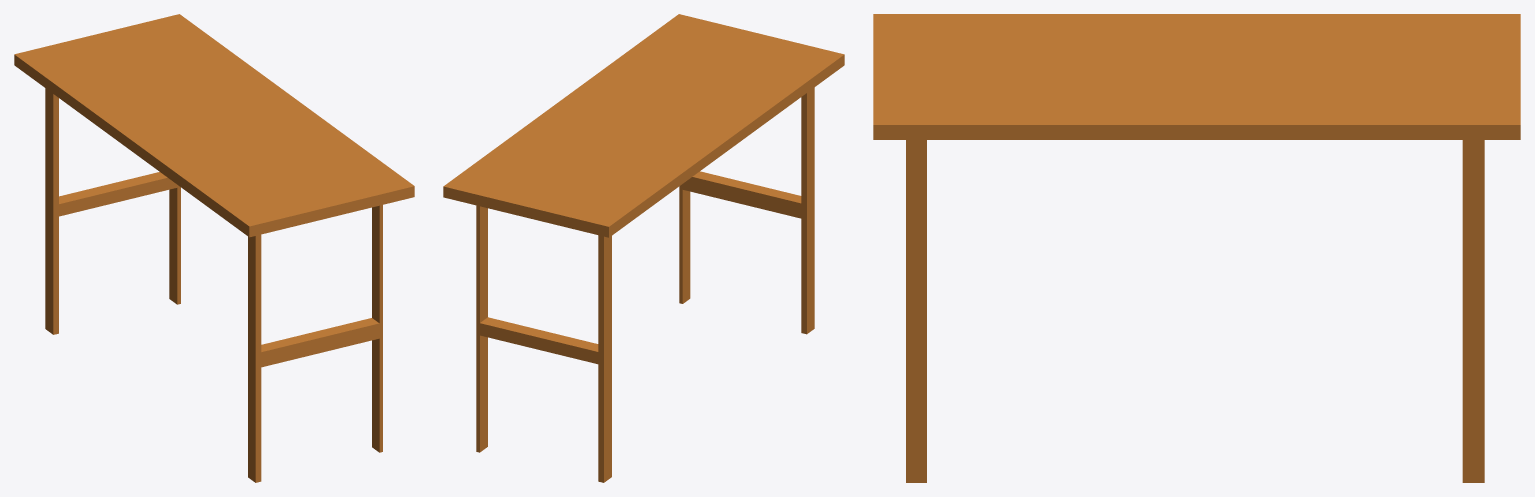
Rendered from mesa.fbx.
3 views of the same model, side by side, from view 1: azimuth 30°, elevation 25°; view 2: azimuth 150°, elevation 25°; view 3: azimuth 270°, elevation 25° (orthographic). The views are drawn at different scales.
Visible parts, largest first — view 1: Cubo.001; view 2: Cubo.001; view 3: Cubo.001.
Part boxes in pixels (box(x1,y1,x2,y2)): Cubo.001: box(14, 14, 414, 482); Cubo.001: box(443, 14, 844, 482); Cubo.001: box(873, 14, 1520, 482).
Bounding box in the file's own units: 2 × 3.12 × 4.93.
